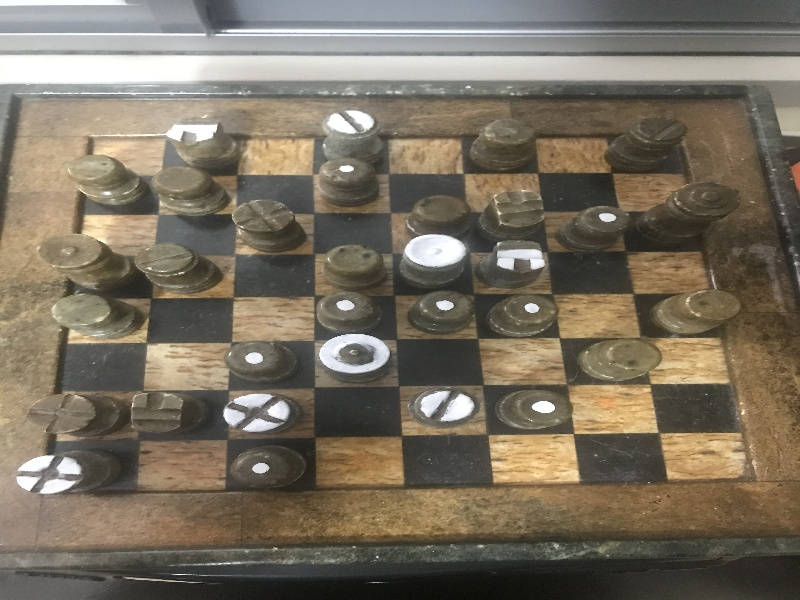WhiteBishop: (17, 450, 118, 494), (224, 394, 302, 435)
WhitePawn: (495, 388, 572, 430), (556, 205, 626, 251), (486, 294, 559, 337), (231, 445, 305, 487), (317, 158, 379, 205), (226, 341, 297, 382), (408, 290, 474, 334), (316, 291, 383, 334)
WhiteRook: (322, 109, 384, 165), (409, 388, 479, 426)
